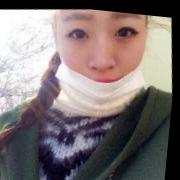WRONG: (47, 5, 158, 112)
